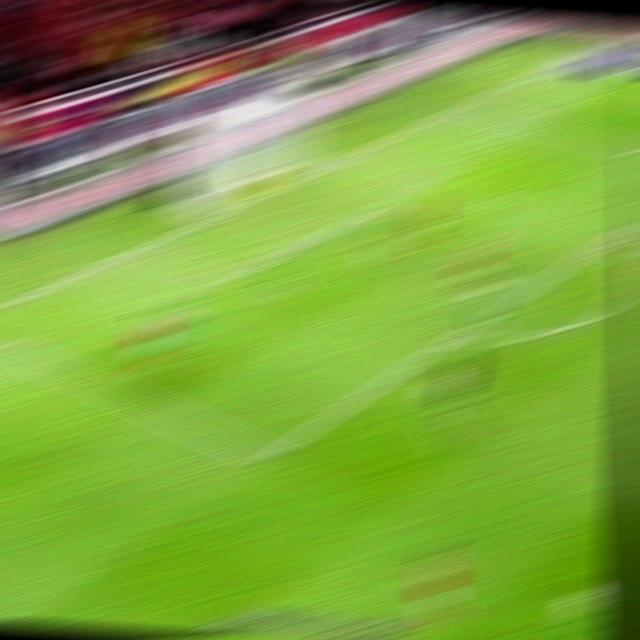bigarea_bottom_inner: (249, 444, 288, 470)
bigarea_top_outter: (445, 99, 476, 111)
bottom_arc_area_intersection: (437, 333, 467, 344)
smallarea_bottom_inner: (209, 269, 245, 291)
smallarea_bottom_outter: (124, 241, 158, 255)
smallarea_top_inner: (421, 169, 453, 182)
smallarea_top_outter: (341, 145, 374, 158)
top_arc_area_intersection: (593, 233, 625, 244)
